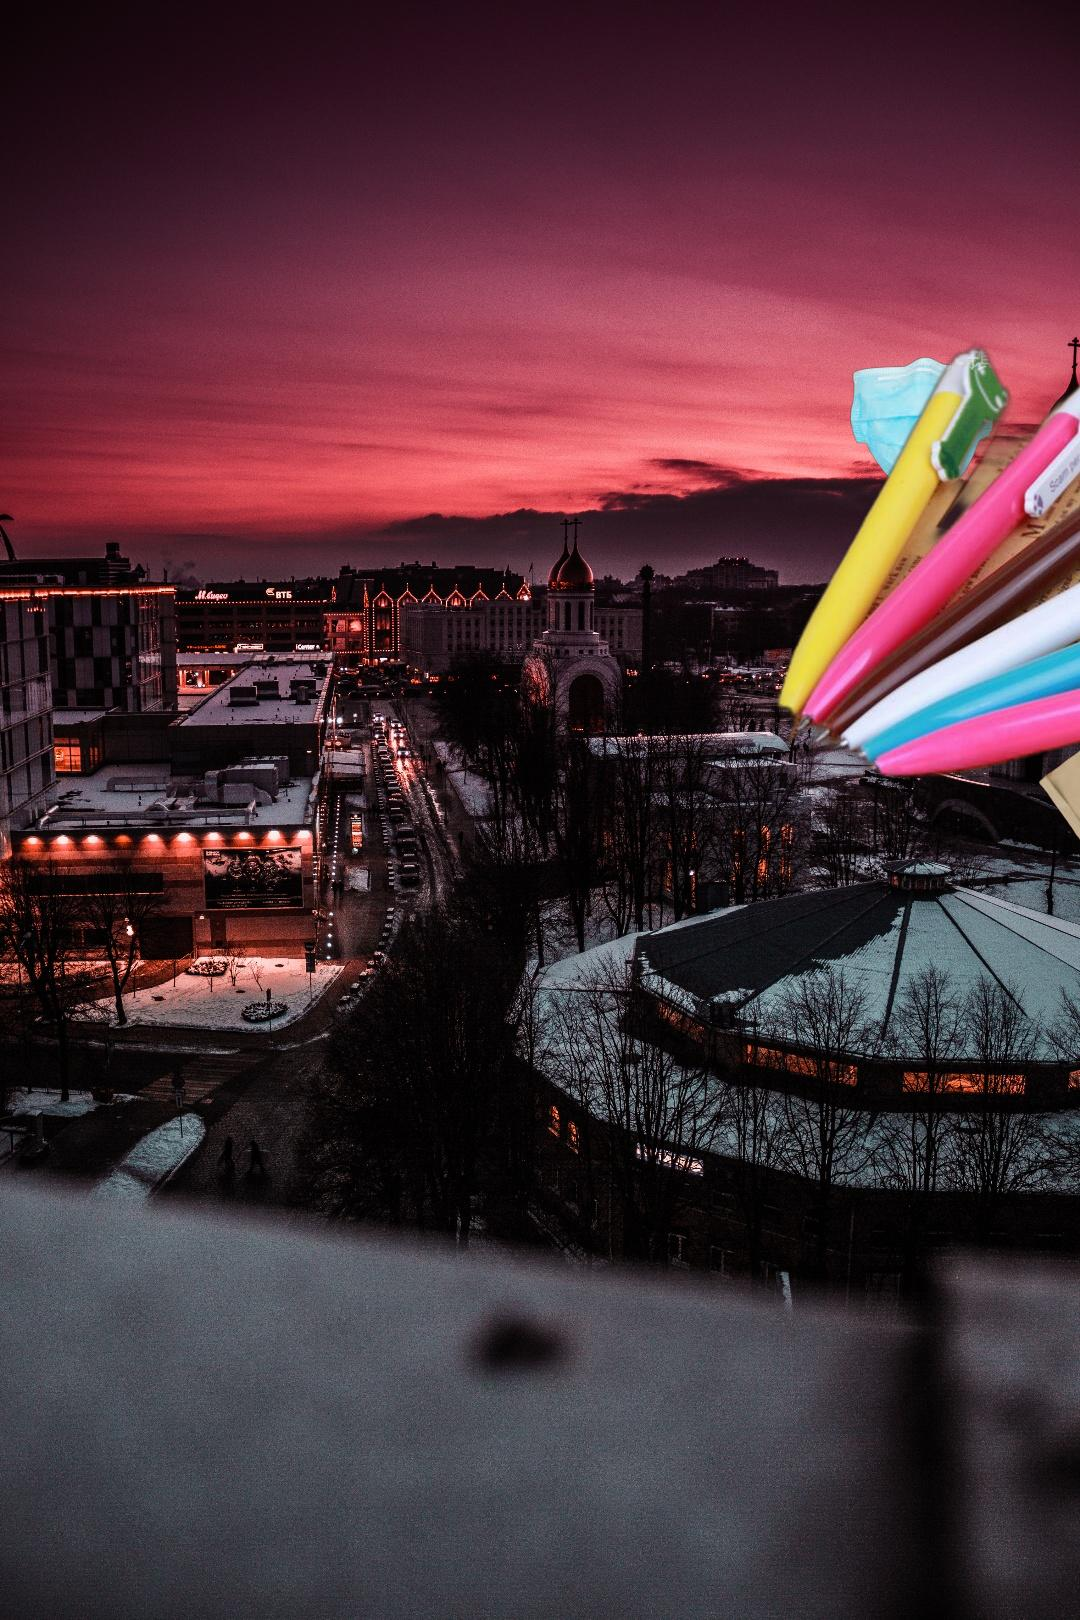paper-bag: (1037, 695, 1080, 859)
penholder: (768, 339, 1080, 788)
trash: (848, 355, 997, 492)
